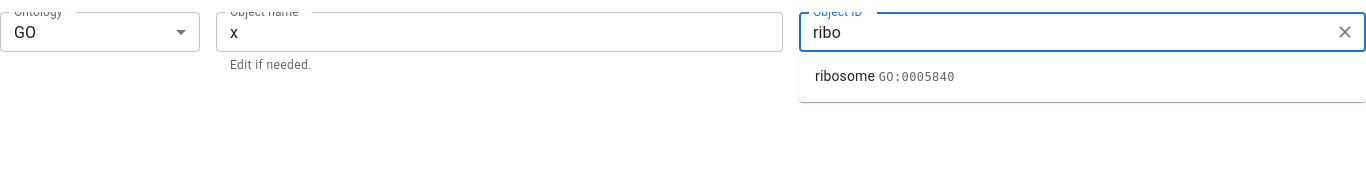
Test case: re-sets the id when the same term is picked after editing the search text
Earlier steps of the test are not shown.
Click the option "ribosome GO:0005840".
click(885, 76)  # box [815,68,955,84]
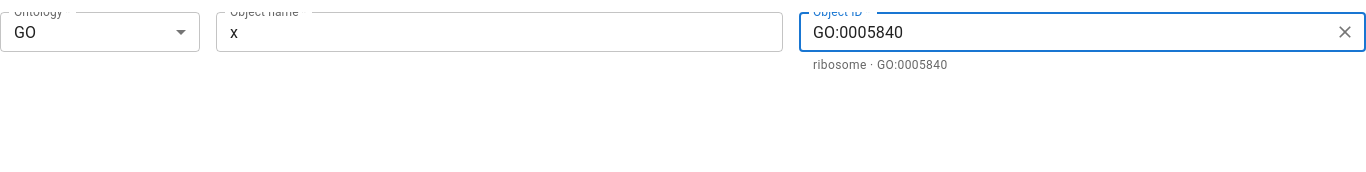
expect the text "ribosome · GO:0005840" is shown: met, box [813,58,948,72]
Type "z" into the dropdown labelled "Object ID *".
click(1066, 32); type("z")  # box [805,18,1327,46]
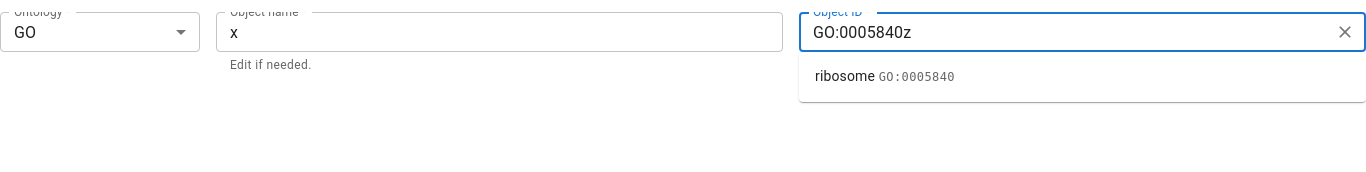
Click the option "ribosome GO:0005840".
click(885, 76)  # box [815,68,955,84]
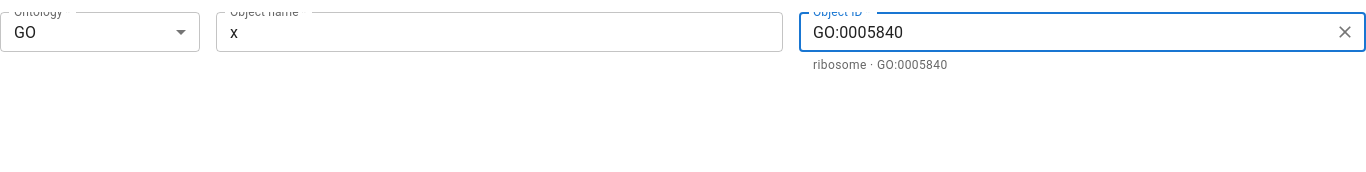
expect the text "ribosome · GO:0005840" is shown: met, box [813,58,948,72]
